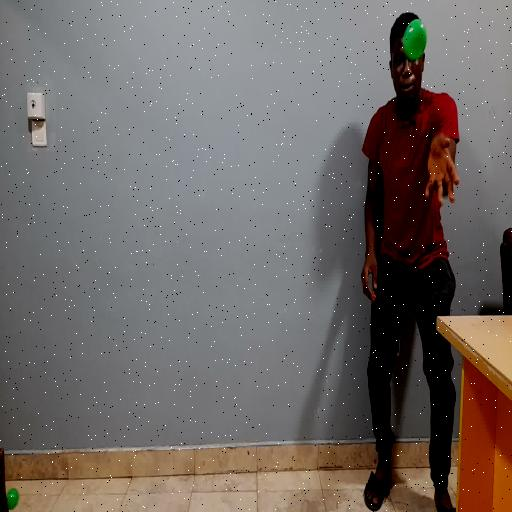plastic-ball: (402, 19, 428, 59)
